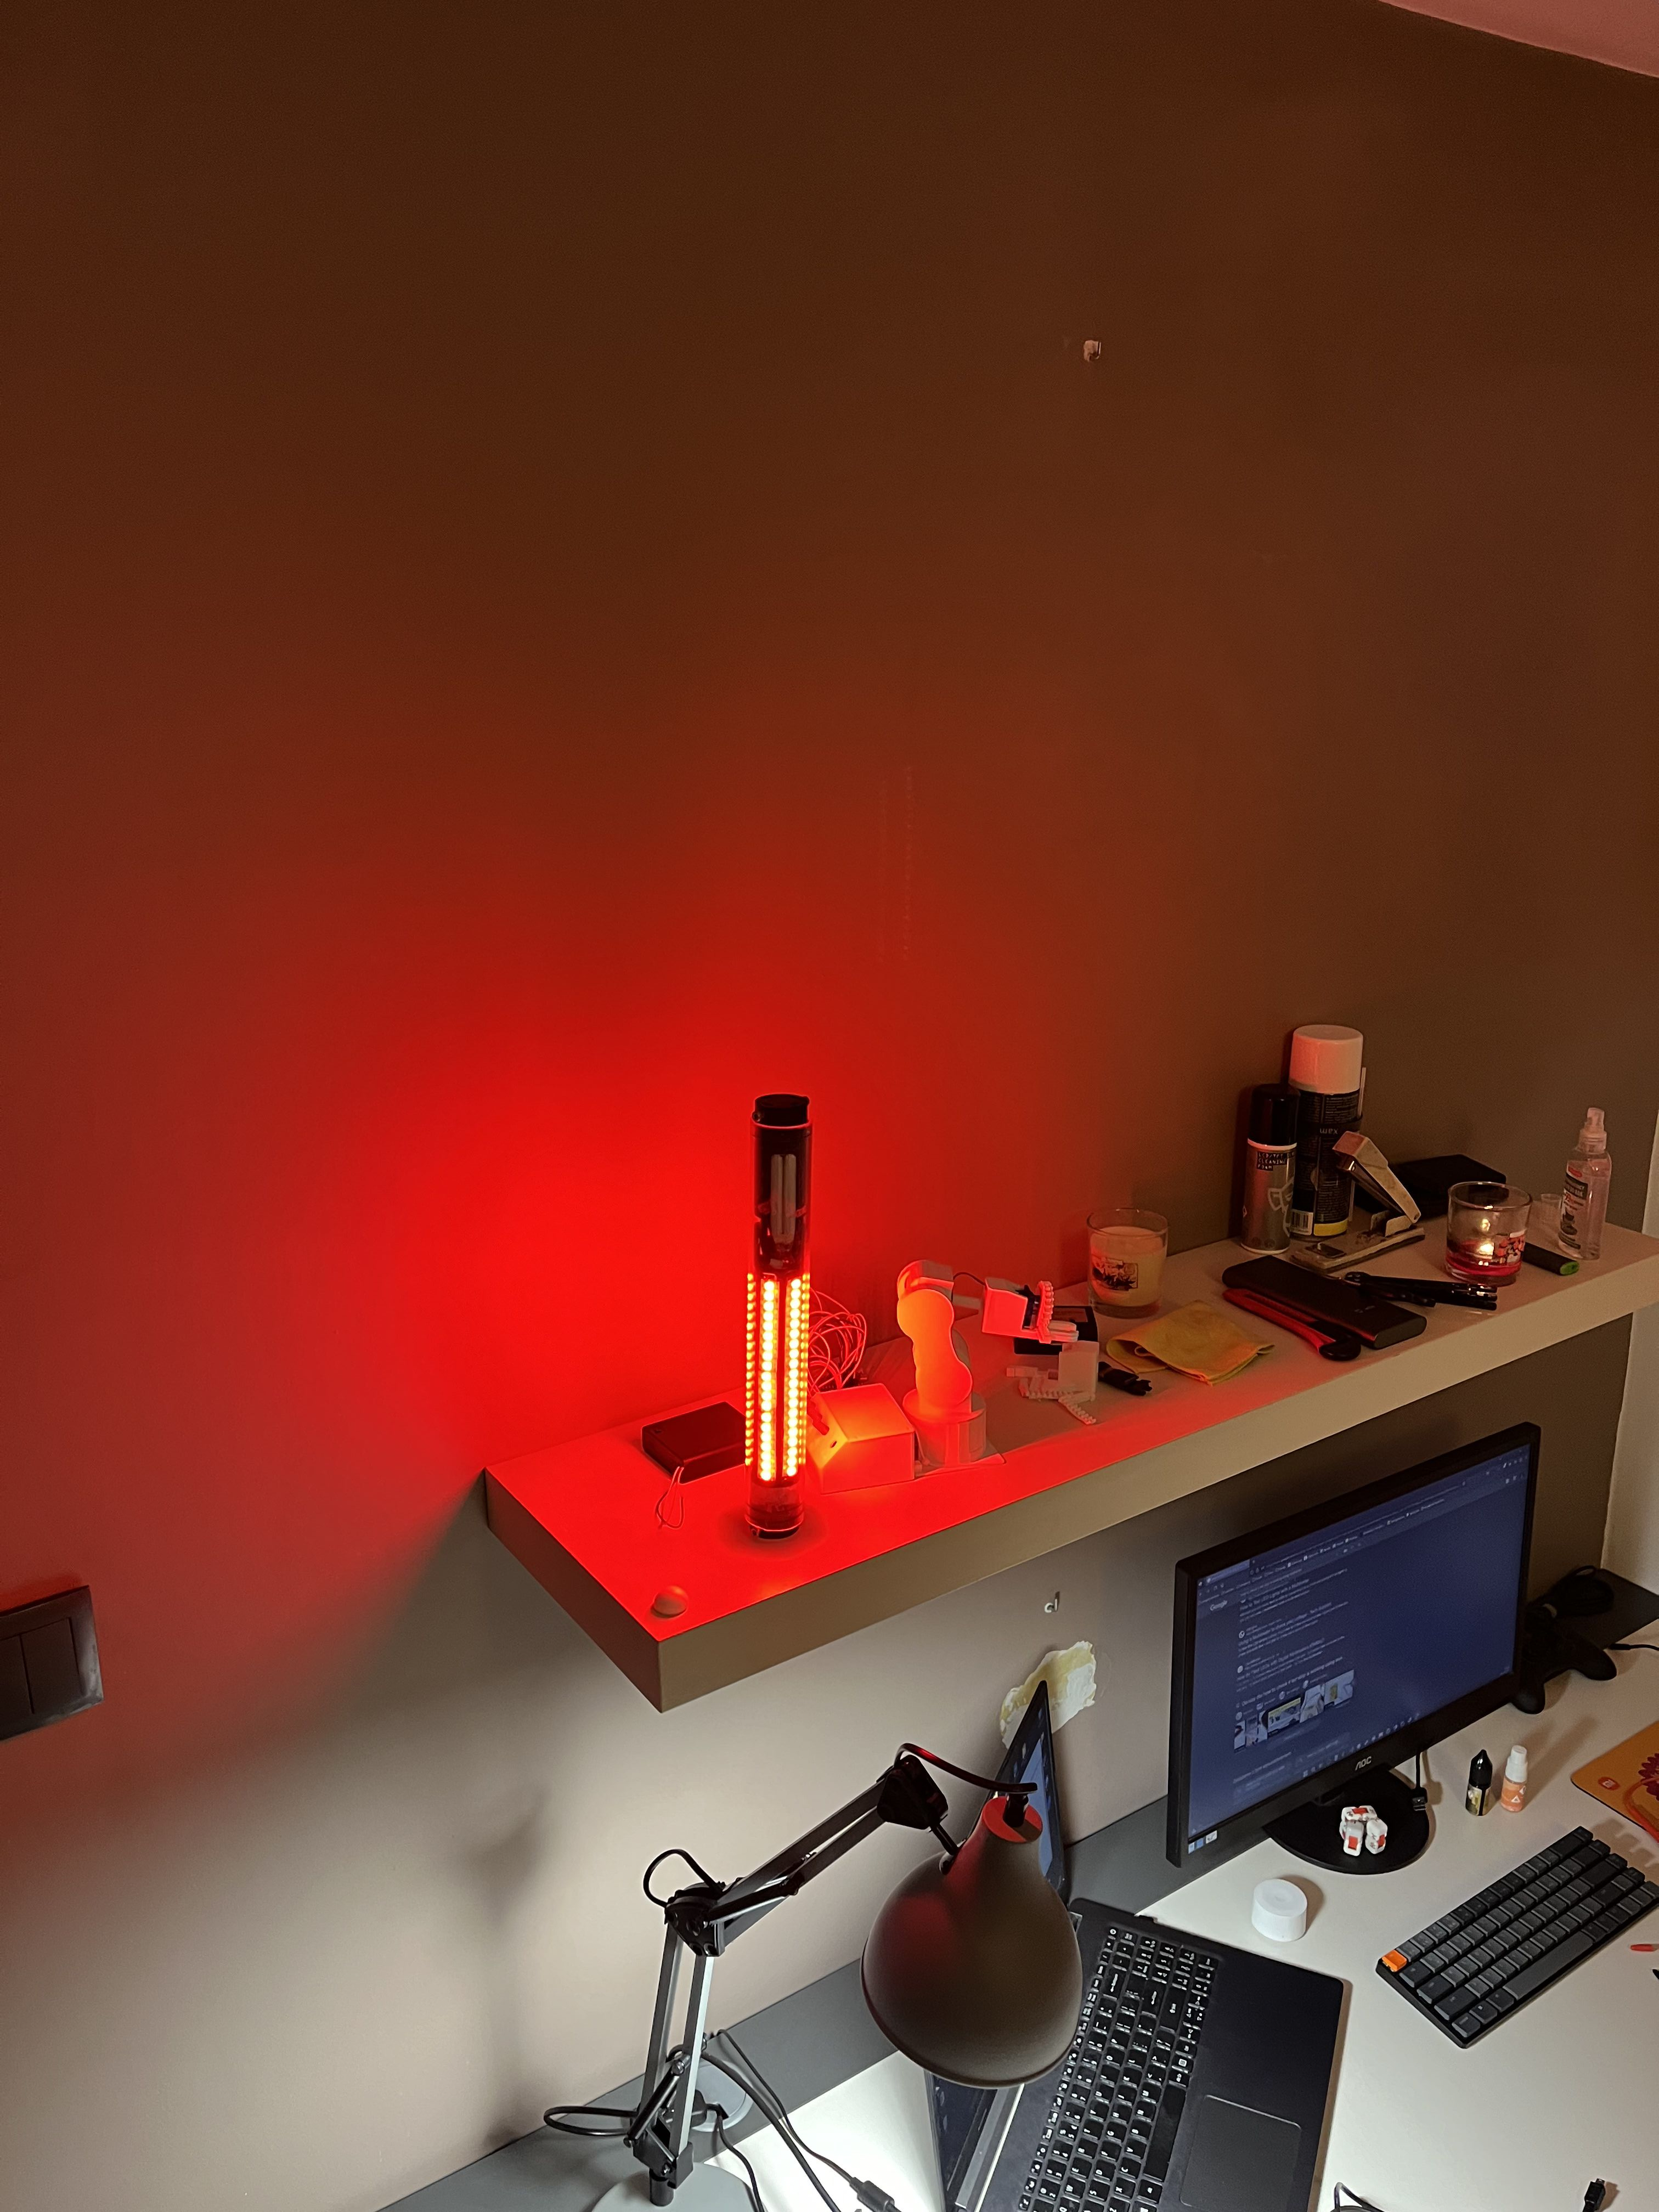red: (746, 1120, 809, 1552)
